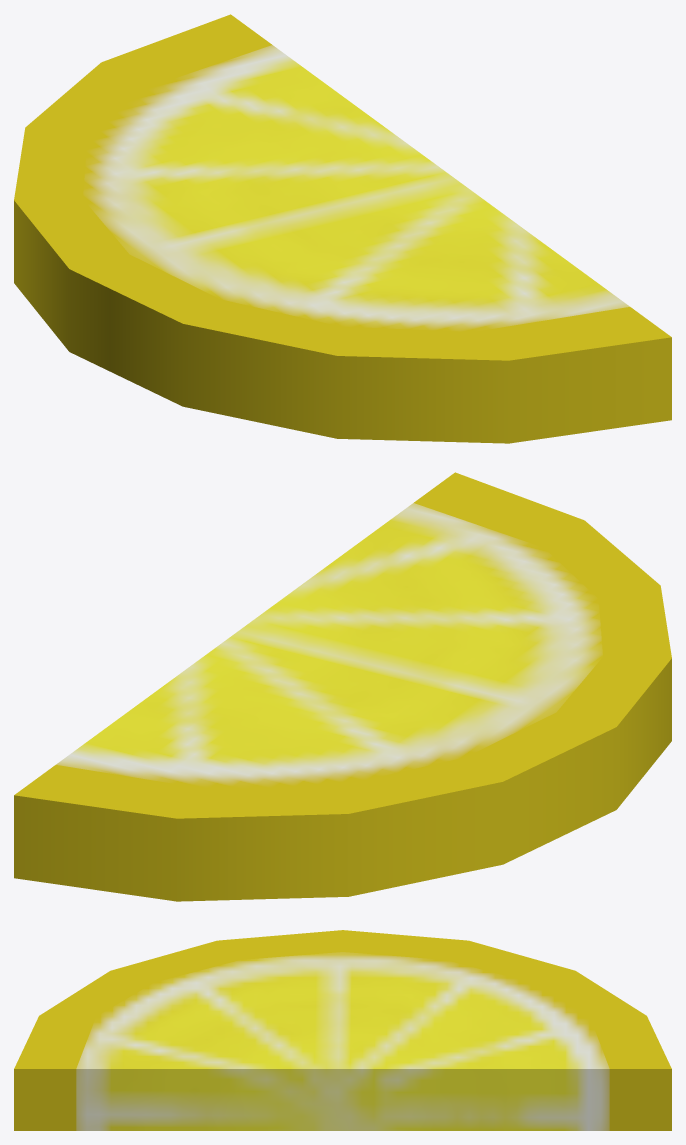
File: garnish-lemon.fbx
The picture shows the model from 3 angles, top to bottom: view 1: azimuth 30°, elevation 25°; view 2: azimuth 150°, elevation 25°; view 3: azimuth 270°, elevation 25°; orthographic projection. The views are drawn at different scales.
Parts seen in each view (by area): view 1: garnish_lemon; view 2: garnish_lemon; view 3: garnish_lemon.
Part boxes in pixels (x1,y1,x2,y2): garnish_lemon: (14, 14, 671, 443); garnish_lemon: (14, 472, 671, 901); garnish_lemon: (14, 930, 671, 1130).
Bounding box in the file's own units: 0.03 × 0.00622 × 0.06.
